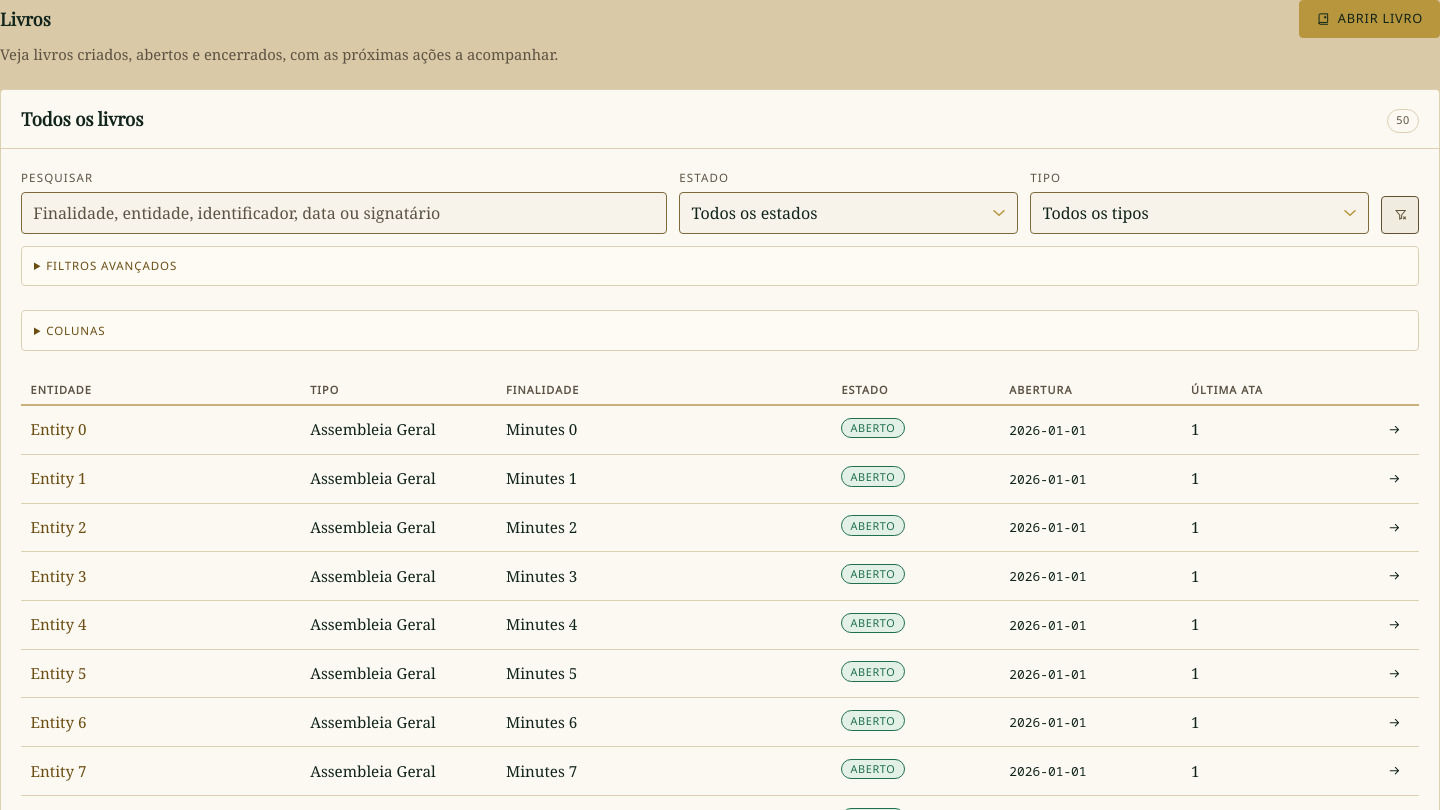
Scenario: bounded registry pages › keeps current-filter controls mounted without showing stale placeholder rows
This screenshot has width=1440, height=810.
Expected: the text "Minutes 0" is shown, [506,419,577,439]
In the search field labelled "Pesquisar": (344, 213) [21,192,667,234], type "No match"
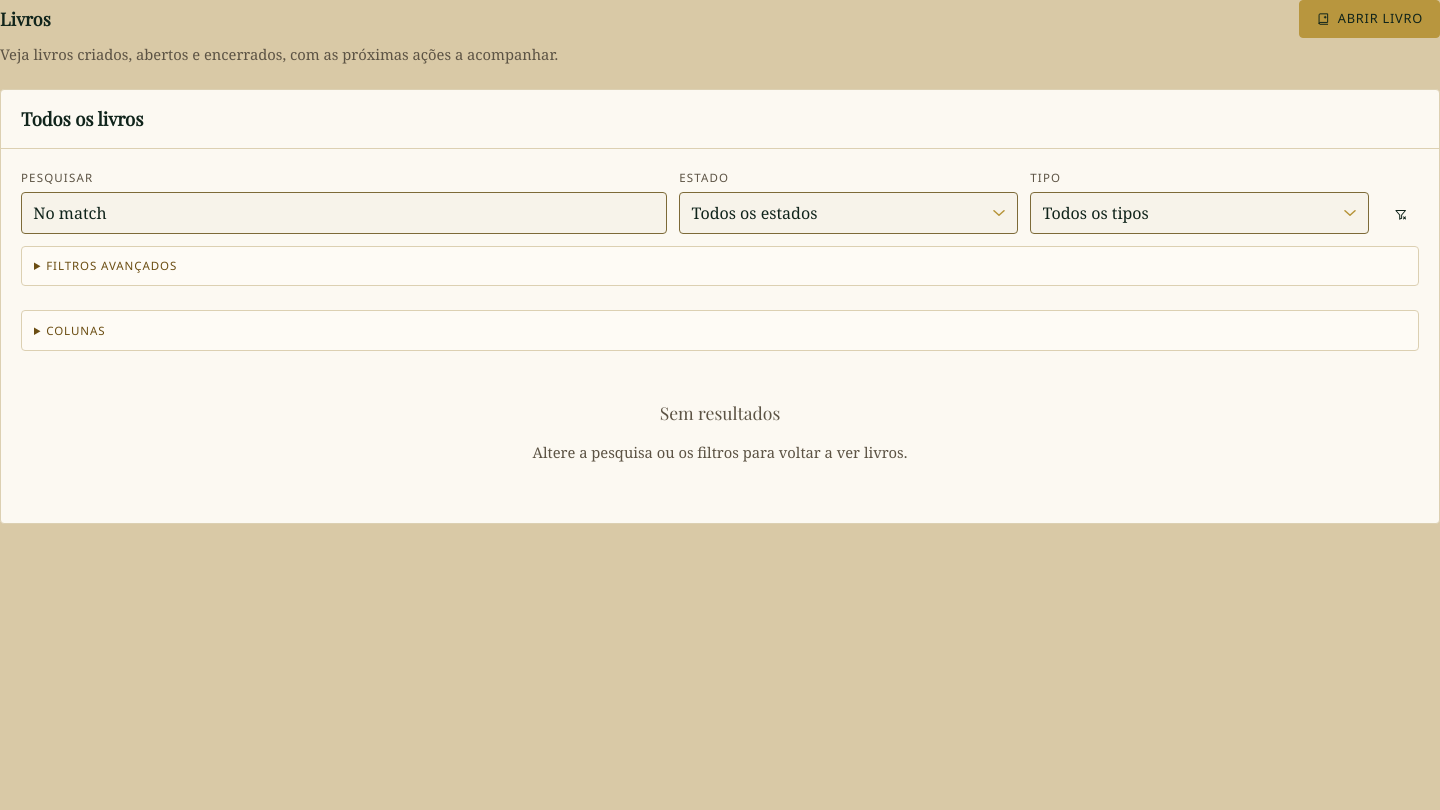
Expected: the text "Minutes 0" is gone
Expected: the text "Sem resultados" is shown, [660,401,780,424]
